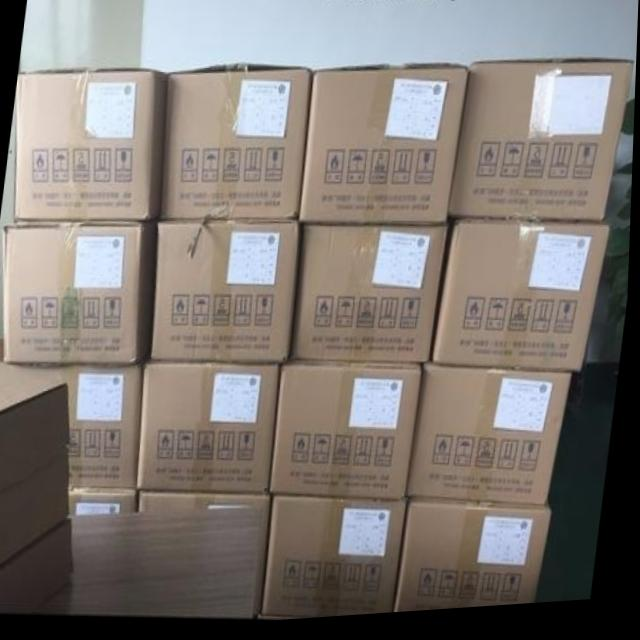box: (448, 67, 635, 230), (434, 225, 611, 381), (302, 69, 467, 226), (157, 66, 312, 221), (409, 369, 575, 510), (5, 218, 159, 367), (294, 224, 452, 368), (14, 74, 163, 220), (153, 220, 301, 365), (270, 367, 424, 504), (140, 360, 282, 499), (8, 356, 149, 490), (397, 504, 554, 618), (266, 501, 416, 620), (132, 496, 272, 616), (0, 357, 73, 566), (71, 486, 140, 612), (0, 516, 76, 614)
